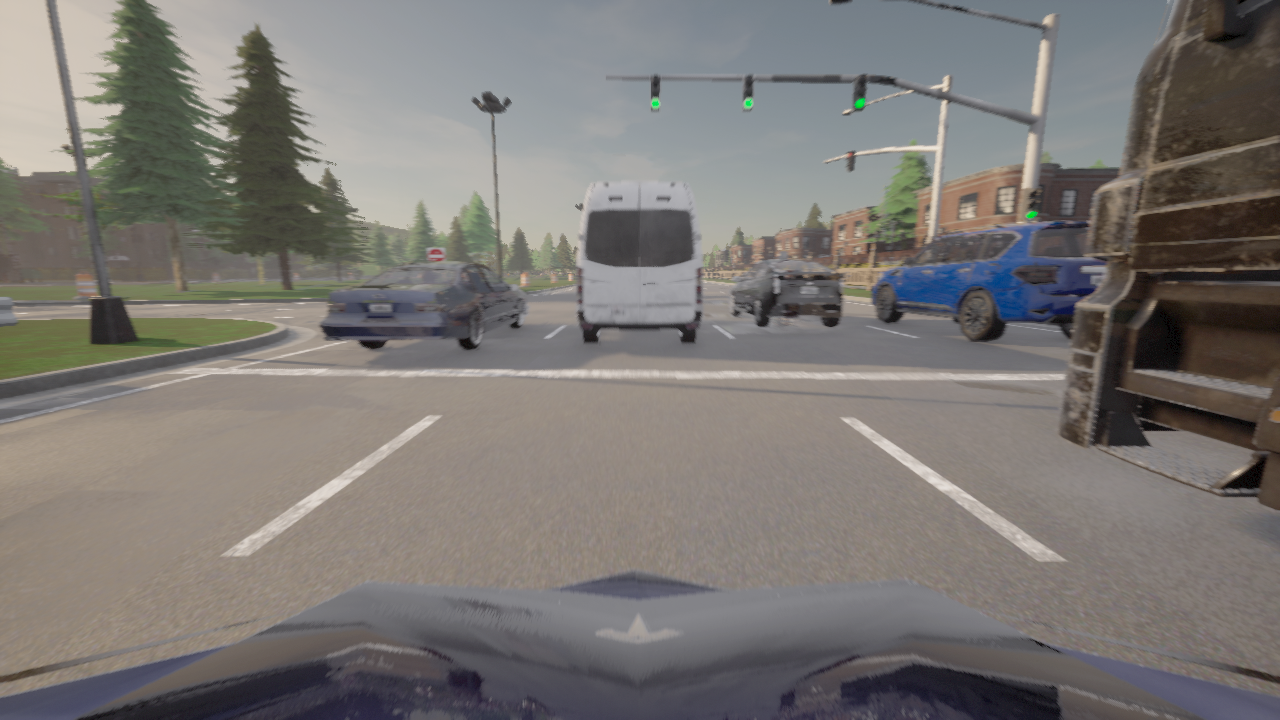cyclist: (0, 569, 1279, 719), (1057, 0, 1279, 511), (872, 221, 1106, 340), (576, 181, 703, 343), (320, 262, 529, 349), (729, 260, 844, 327)
